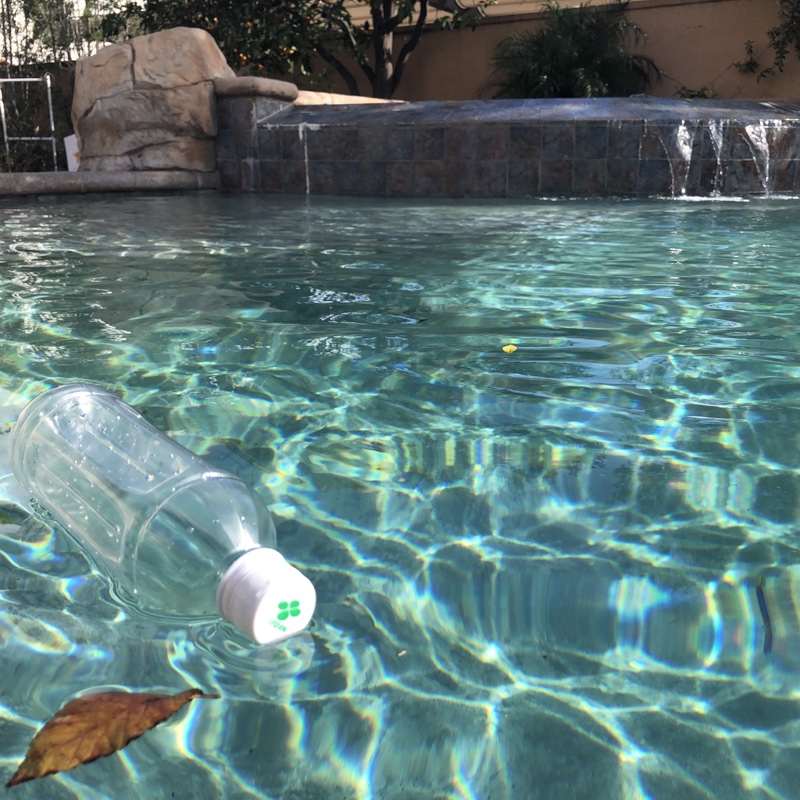Plastic Bottle: (7, 378, 320, 656)
